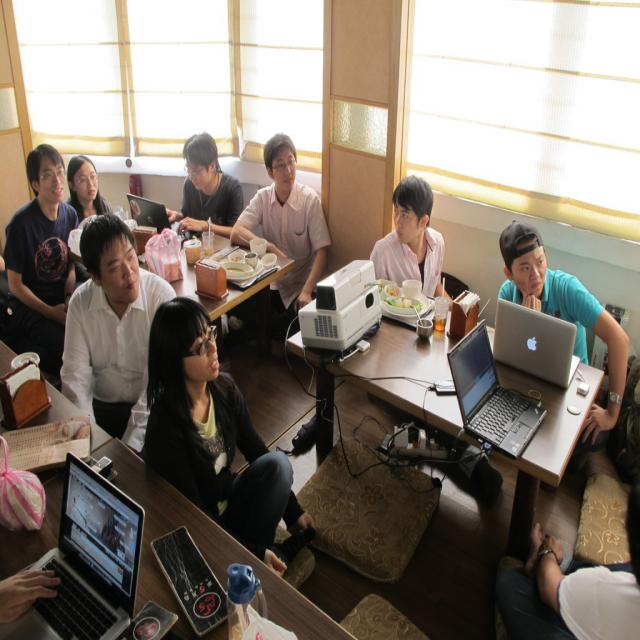desk: (286, 280, 606, 571)
laptop: (20, 451, 146, 640), (447, 320, 547, 459), (492, 298, 586, 389), (126, 194, 174, 232)
person: (141, 295, 319, 589), (504, 355, 640, 638), (495, 218, 631, 444), (60, 214, 176, 448), (230, 133, 332, 321), (1, 143, 80, 382), (370, 174, 446, 299), (164, 132, 244, 239), (66, 154, 126, 225)
